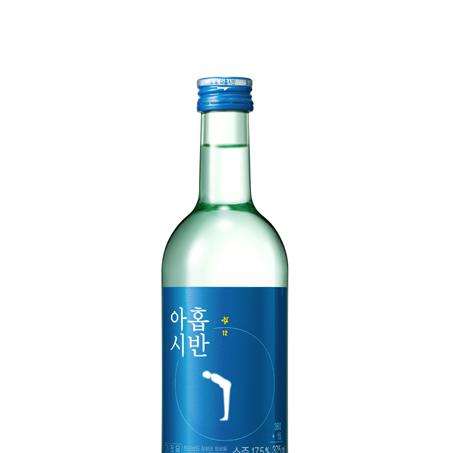soju: (159, 72, 293, 452)
